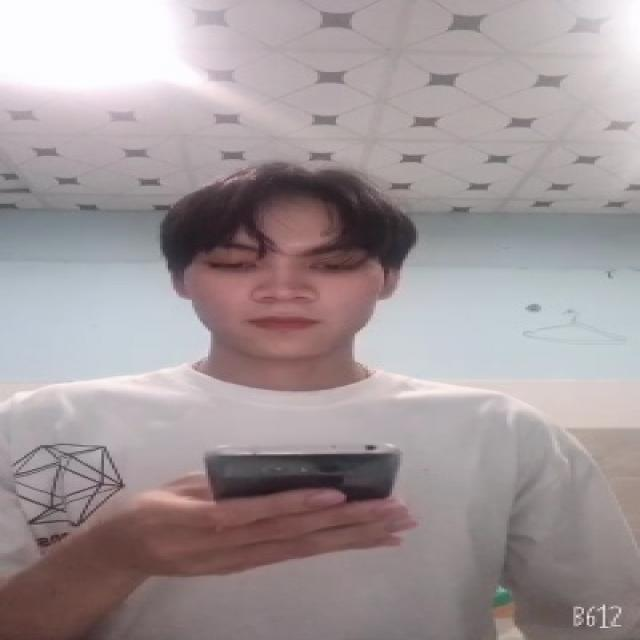Phone: (201, 441, 406, 506)
